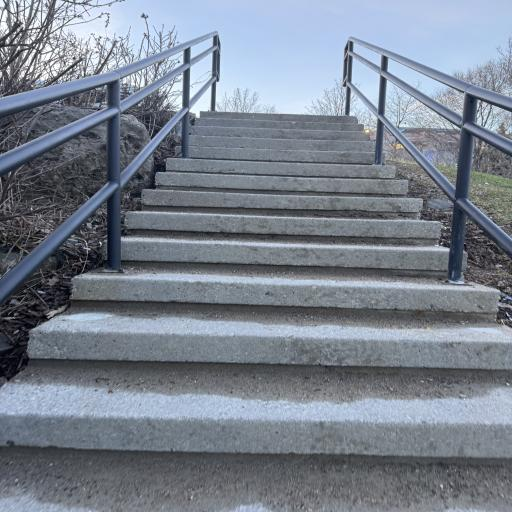Stairs: (0, 112, 512, 459)
